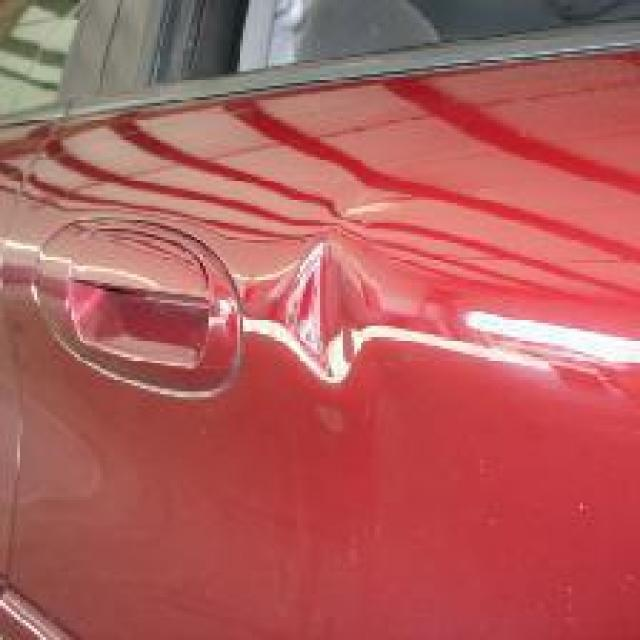damaged: (228, 240, 498, 392)
